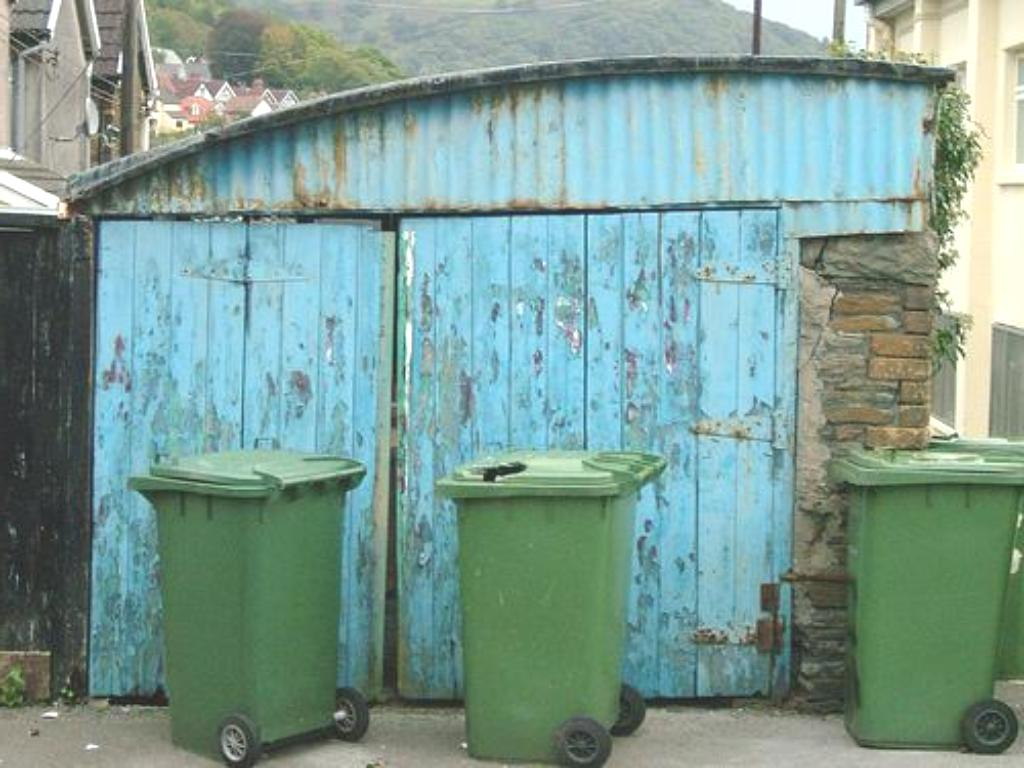dustbin: (135, 447, 360, 768), (439, 444, 664, 763), (813, 445, 1020, 762)
